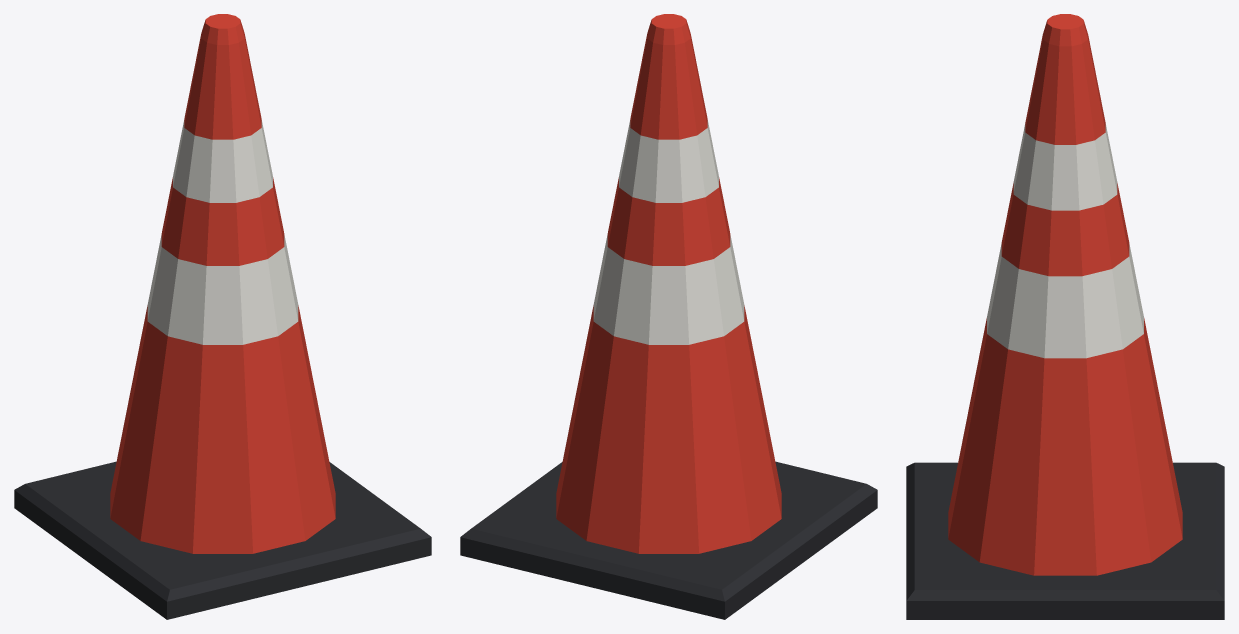
The model's file is SM_Street_Cone_01.gltf.
3 views of the same model, side by side, from view 1: azimuth 30°, elevation 25°; view 2: azimuth 150°, elevation 25°; view 3: azimuth 270°, elevation 25° (orthographic). The views are drawn at different scales.
Parts seen in each view (by area): view 1: SM_Street_Cone_01; view 2: SM_Street_Cone_01; view 3: SM_Street_Cone_01.
Part boxes in pixels (<box>): SM_Street_Cone_01: <box>14,14,431,619</box>; SM_Street_Cone_01: <box>460,14,877,619</box>; SM_Street_Cone_01: <box>906,14,1224,619</box>.
Size of the model in its own units: 0.38 by 0.7 by 0.38.
1 material, 1 textured.
